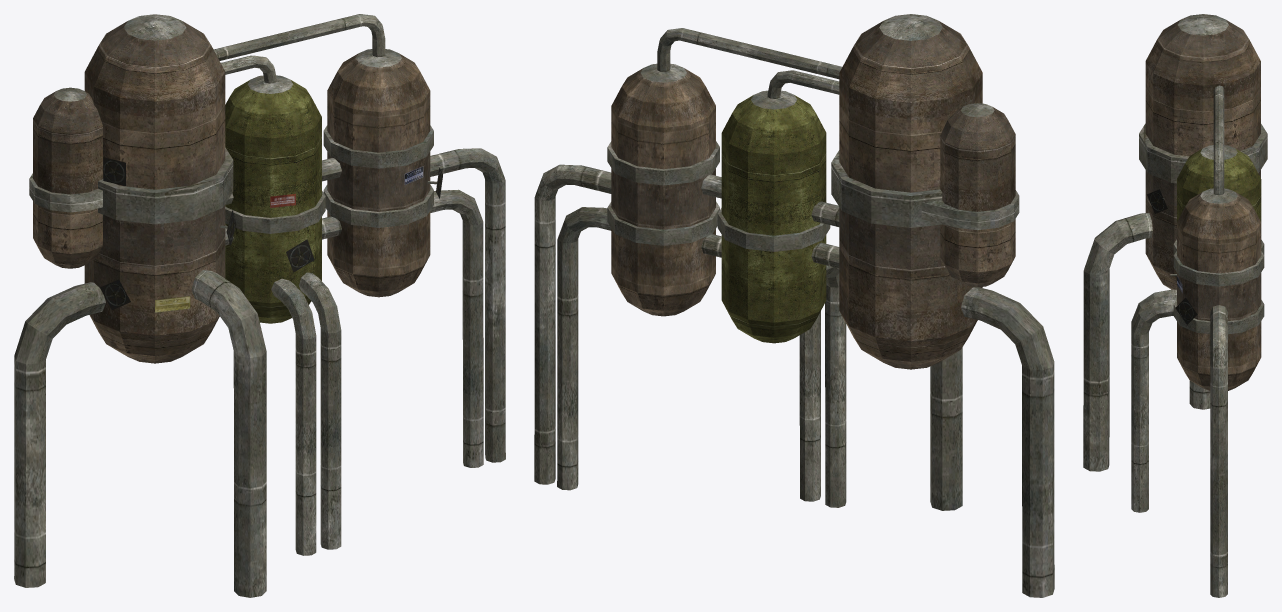
File: frn_all_tankfarm_s01_l0.fbx
The picture shows the model from 3 angles, left to right: view 1: azimuth 30°, elevation 25°; view 2: azimuth 150°, elevation 25°; view 3: azimuth 270°, elevation 25°; orthographic projection. The views are drawn at different scales.
Parts seen in each view (by area): view 1: mesh_node; view 2: mesh_node; view 3: mesh_node.
Boxes of the visible parts, x1,y1,x2,y2 form: mesh_node: [14, 14, 505, 597]; mesh_node: [534, 14, 1054, 597]; mesh_node: [1083, 14, 1267, 597].
Size of the model in its own units: 4.49 by 4.56 by 1.75.
